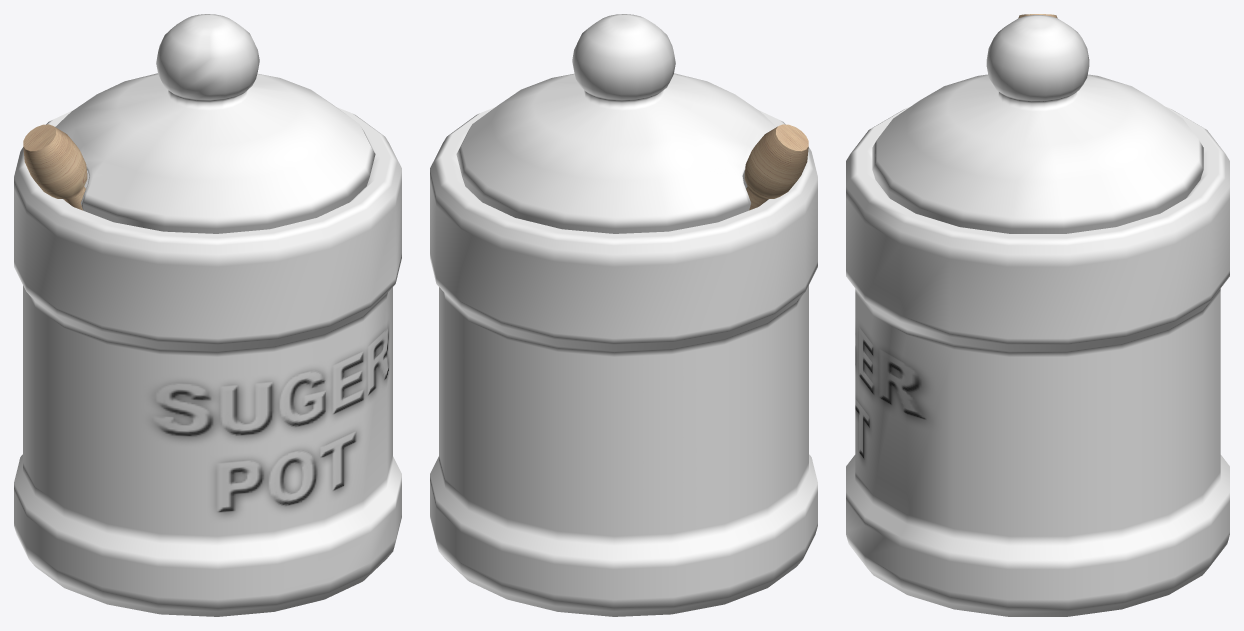
Rendered from suger.fbx.
3 renders of one model, left to right at view 1: azimuth 30°, elevation 25°; view 2: azimuth 150°, elevation 25°; view 3: azimuth 270°, elevation 25°, orthographic.
Parts seen in each view (by area): view 1: suger; view 2: suger; view 3: suger.
Boxes of the visible parts, box(x1,y1,x2,y2) form: suger: box(14, 14, 401, 616); suger: box(430, 14, 817, 616); suger: box(846, 14, 1229, 616).
Size of the model in its own units: 12.66 by 18.02 by 12.07.
2 materials, 2 textured.
